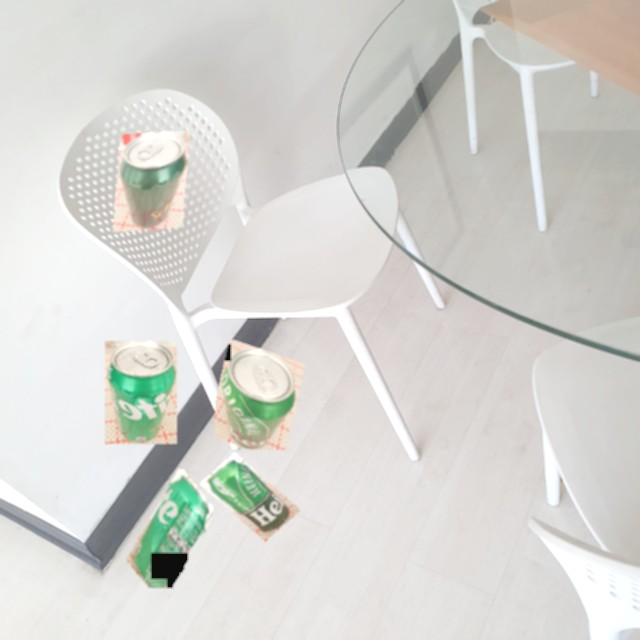heineken: (200, 445, 300, 548), (215, 340, 305, 450)
schweppes: (112, 131, 191, 232)
sprite: (115, 469, 213, 588), (105, 341, 177, 444)
